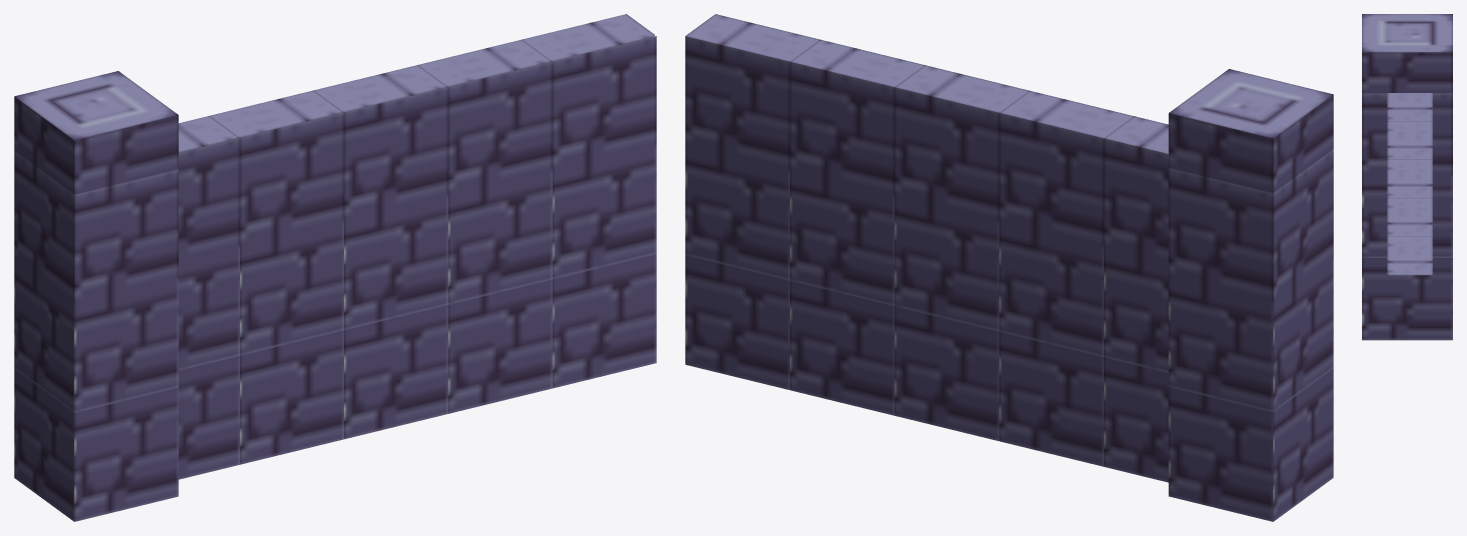
The model's file is wall.fbx.
3 views of the same model, side by side, from view 1: azimuth 30°, elevation 25°; view 2: azimuth 150°, elevation 25°; view 3: azimuth 270°, elevation 25° (orthographic). The views are drawn at different scales.
Parts seen in each view (by area): view 1: Cube.031; view 2: Cube.031; view 3: Cube.031.
Boxes of the visible parts, x1,y1,x2,y2 form: Cube.031: (14,14,656,521); Cube.031: (685,14,1333,521); Cube.031: (1362,14,1452,340).
Size of the model in its own units: 287 by 175 by 50.
